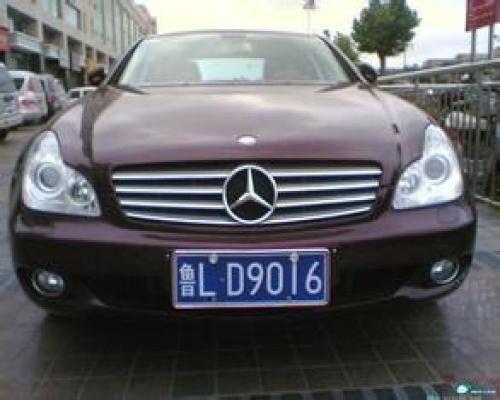Carplate: (157, 244, 338, 314)
